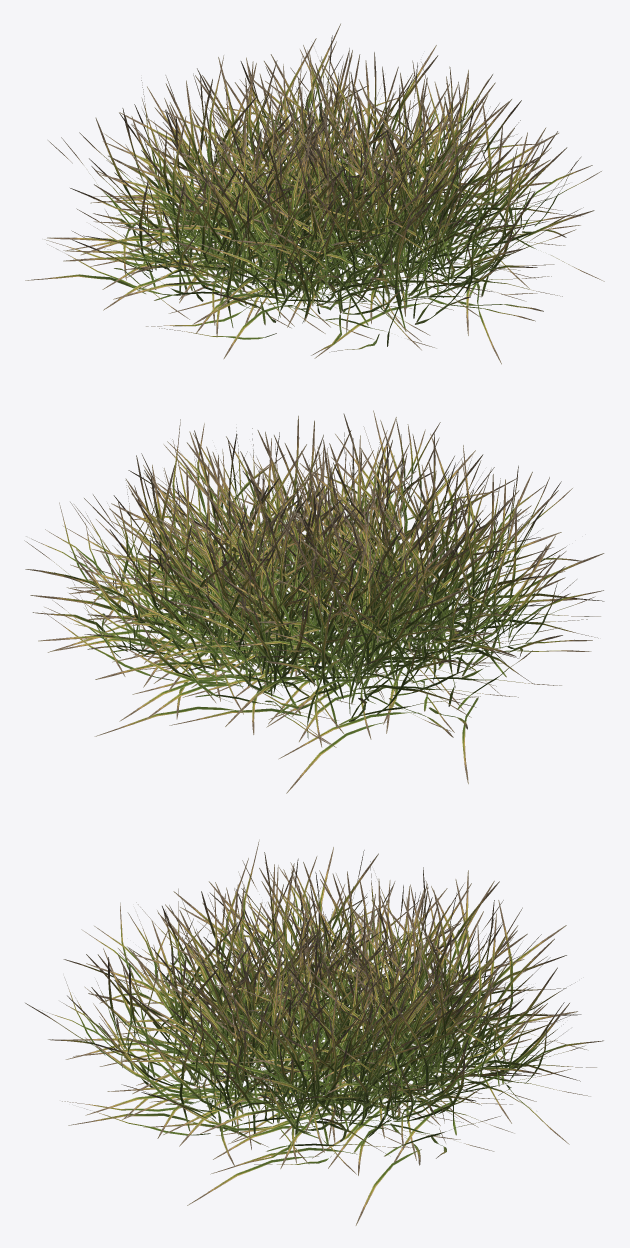
Rendered from grass.glb.
3 renders of one model, top to bottom at view 1: azimuth 30°, elevation 25°; view 2: azimuth 150°, elevation 25°; view 3: azimuth 270°, elevation 25°, orthographic. The views are drawn at different scales.
Visible parts, largest first — view 1: Object_2; view 2: Object_2; view 3: Object_2.
Part boxes in pixels (<box>): Object_2: <box>25,23,604,364</box>; Object_2: <box>24,410,604,793</box>; Object_2: <box>25,839,603,1225</box>.
Bounding box in the file's own units: 42.51 × 15.1 × 42.5.
1 material, 1 textured.
